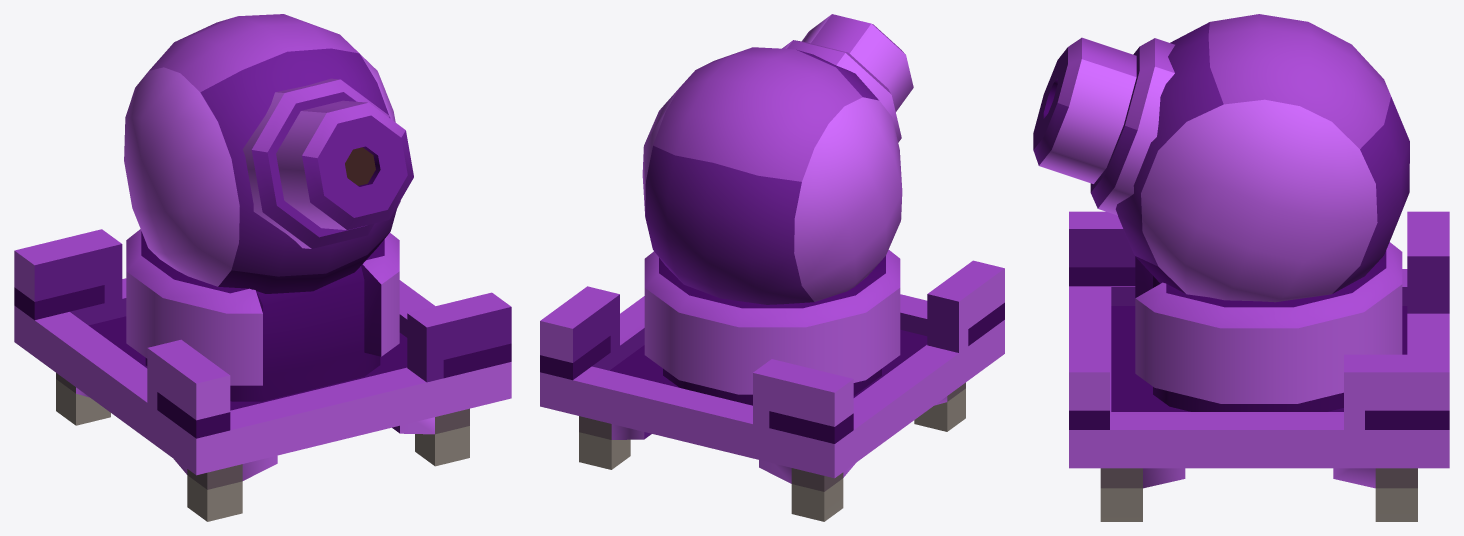
File: PipeRunnerMesh.PurpleLightning.glb
3 views of the same model, side by side, from view 1: azimuth 30°, elevation 25°; view 2: azimuth 150°, elevation 25°; view 3: azimuth 270°, elevation 25° (orthographic). The views are drawn at different scales.
Visible parts, largest first — view 1: PipeRunnerMesh.PurpleLightning; view 2: PipeRunnerMesh.PurpleLightning; view 3: PipeRunnerMesh.PurpleLightning.
Boxes of the visible parts, x1,y1,x2,y2 form: PipeRunnerMesh.PurpleLightning: (14, 14, 511, 521); PipeRunnerMesh.PurpleLightning: (540, 14, 1004, 521); PipeRunnerMesh.PurpleLightning: (1033, 14, 1449, 521).
Size of the model in its own units: 1.8 by 2.23 by 1.97.
Materials: 1 (1 with a texture image).
